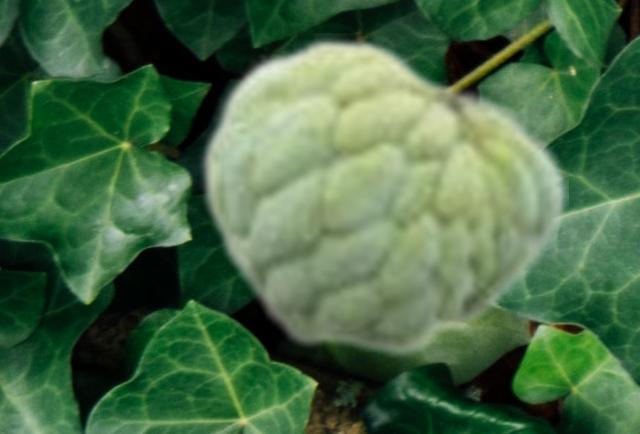atis: (197, 33, 567, 360)
